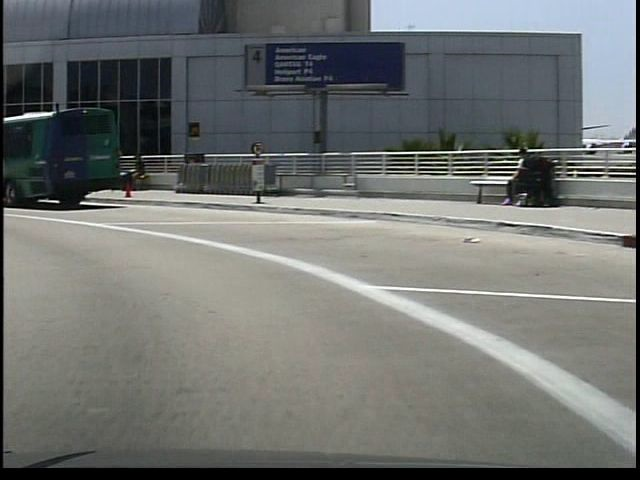person: (121, 150, 146, 195)
